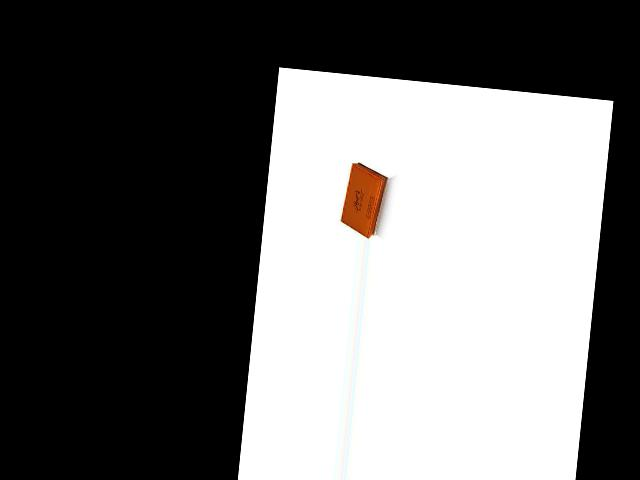chocolate: (337, 159, 395, 239)
